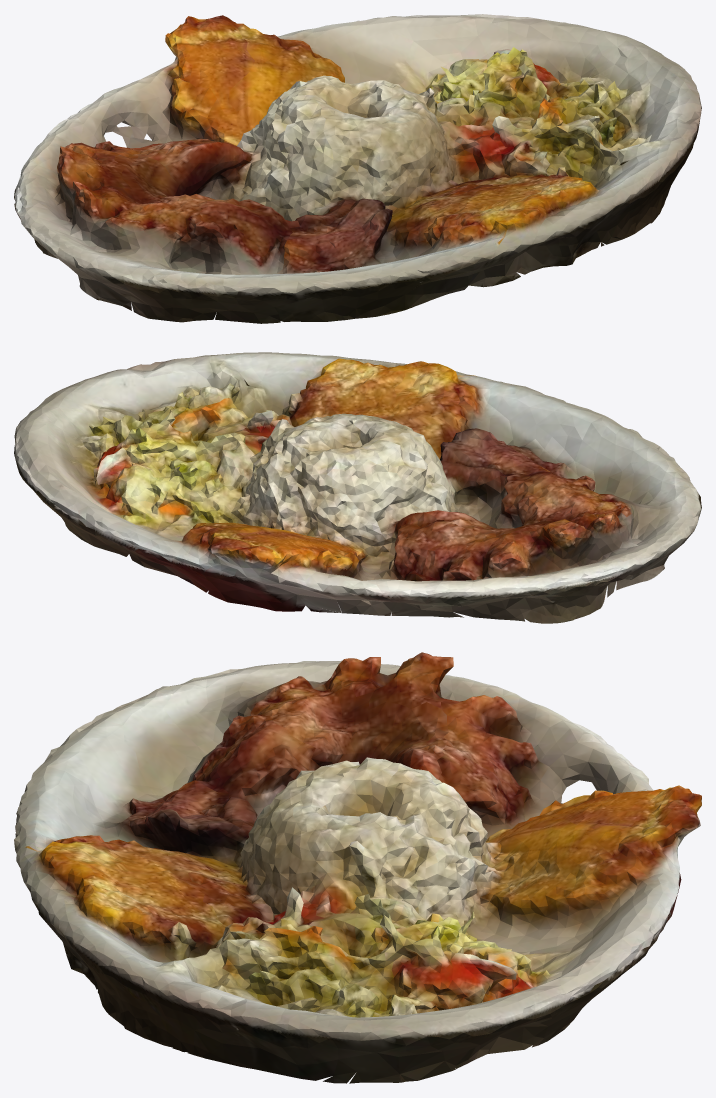
The model's file is seco_baked.glb.
3 views of the same model, one above another, from view 1: azimuth 30°, elevation 25°; view 2: azimuth 150°, elevation 25°; view 3: azimuth 270°, elevation 25° (orthographic). The views are drawn at different scales.
Parts seen in each view (by area): view 1: Mesh_0; view 2: Mesh_0; view 3: Mesh_0.
Part boxes in pixels (x1=…): Mesh_0: x1=14, y1=14, x2=701, y2=323; Mesh_0: x1=14, y1=352, x2=701, y2=623; Mesh_0: x1=14, y1=652, x2=701, y2=1083.
Size of the model in its own units: 9.36 by 1.43 by 7.13.
1 material, 1 textured.
